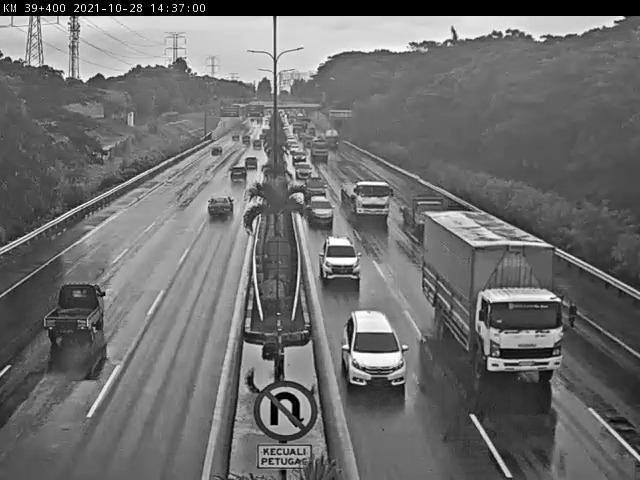big truck: (443, 249, 575, 375), (348, 172, 388, 224)
car: (34, 281, 103, 359), (343, 312, 403, 387), (321, 232, 357, 279), (207, 189, 230, 230), (310, 198, 334, 223), (226, 164, 248, 188)
